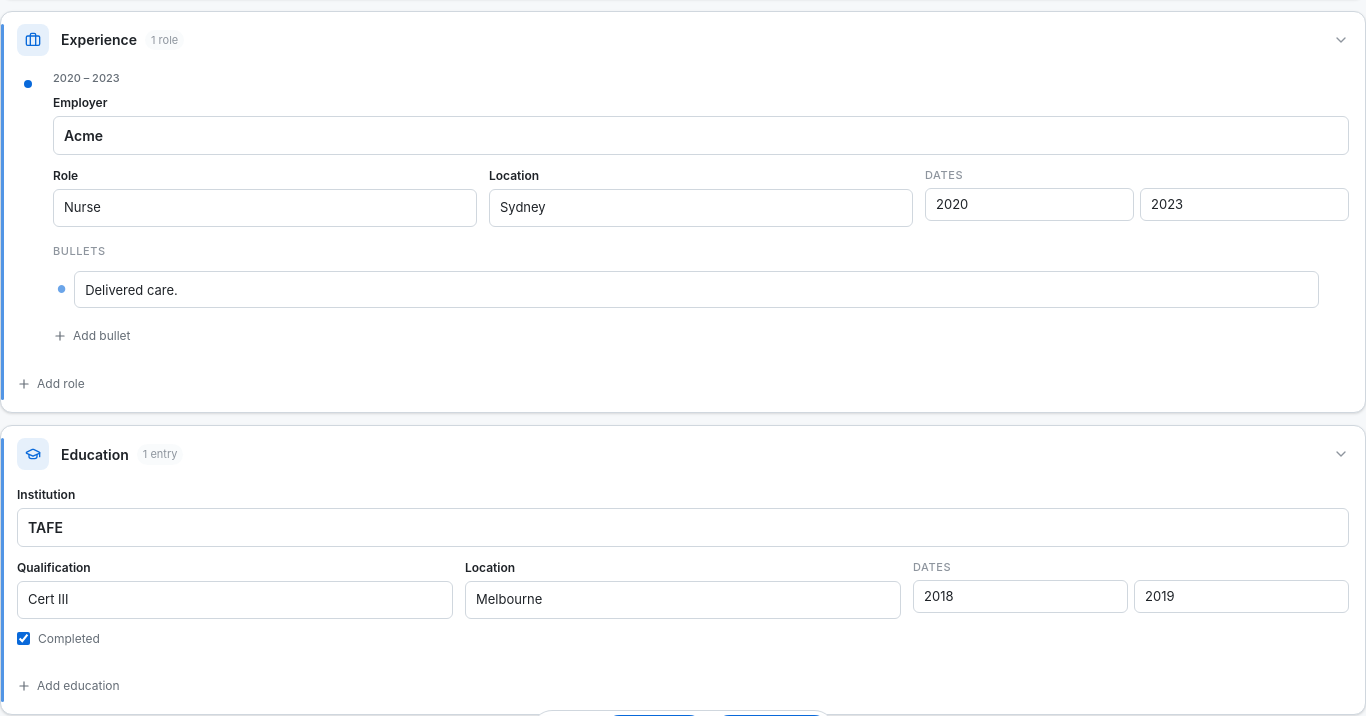
it: Experience section › removing a role reaches removeExperience
(page scrolled)
Click the button "Add role" at (51, 384), box [9,372,93,396]
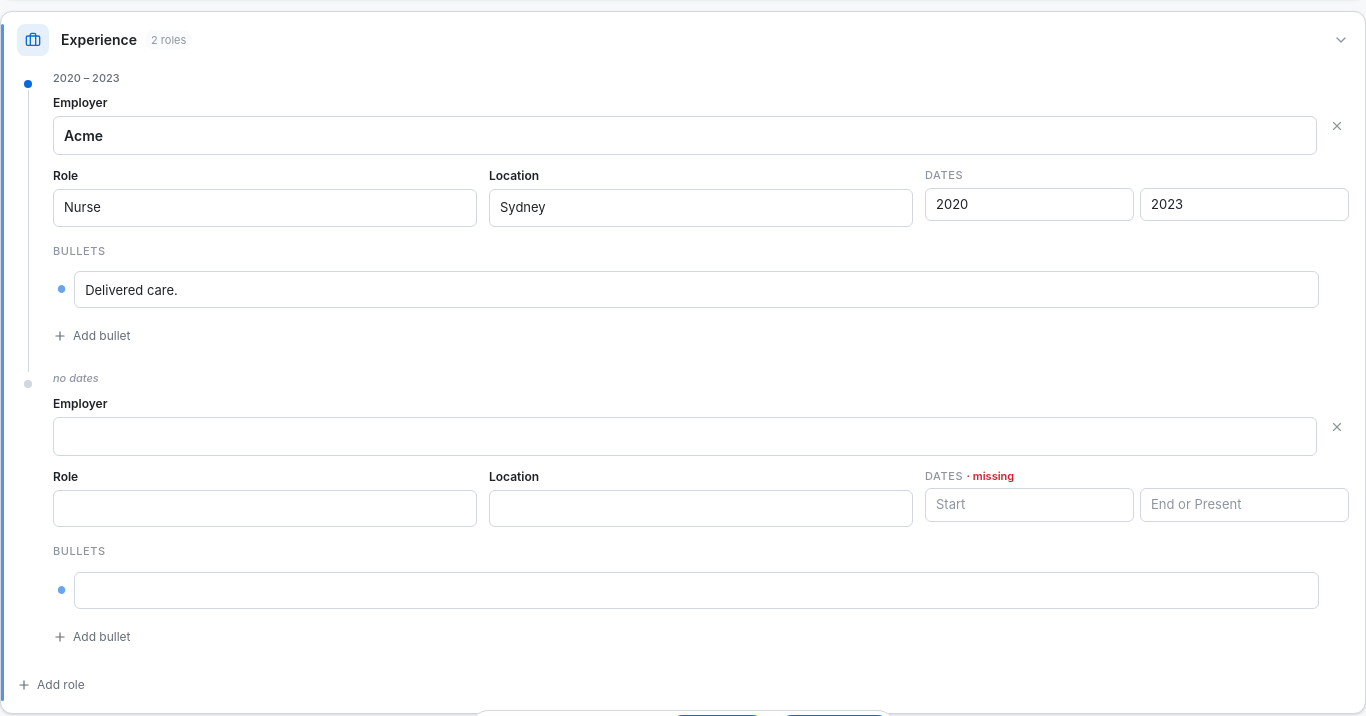
Type "Second Employer" into the field labelled "Employer" below "no dates" at (685, 436), box [53,417,1317,456]
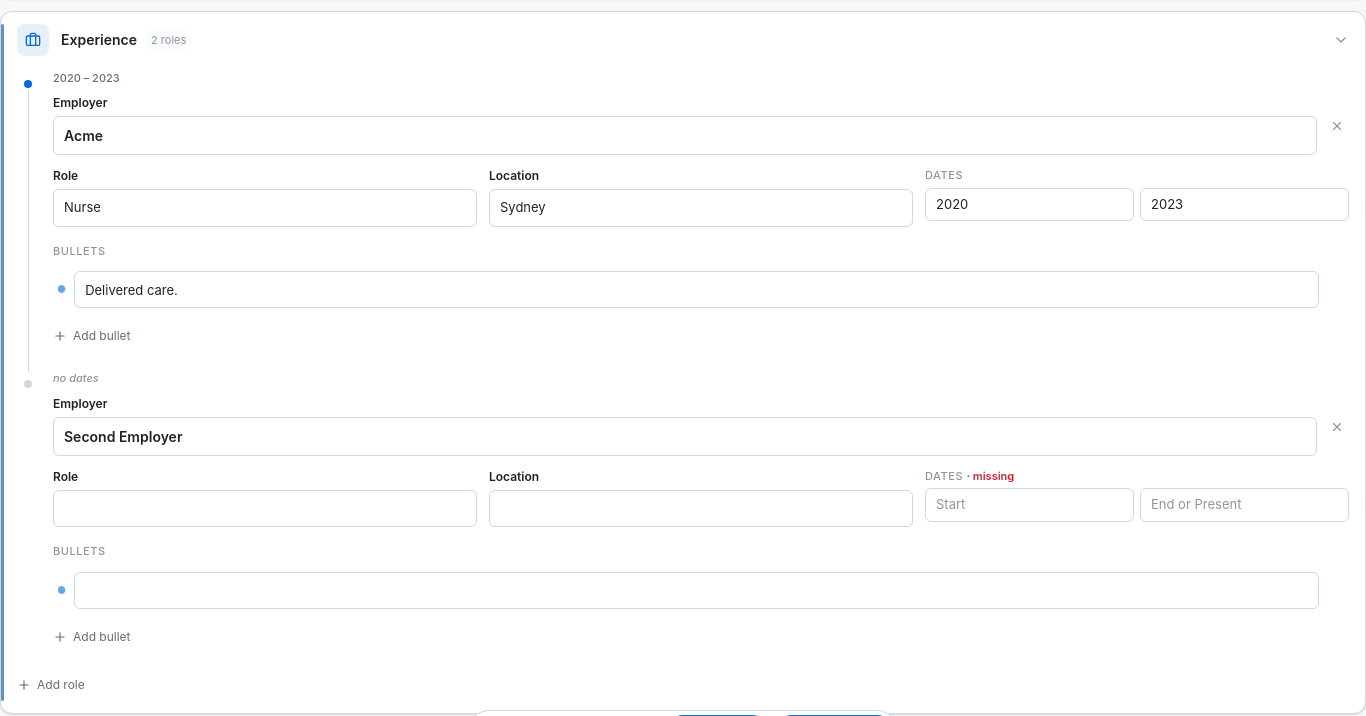
Click the 1st button named "Remove role" at (1337, 126), box [1325,114,1349,138]
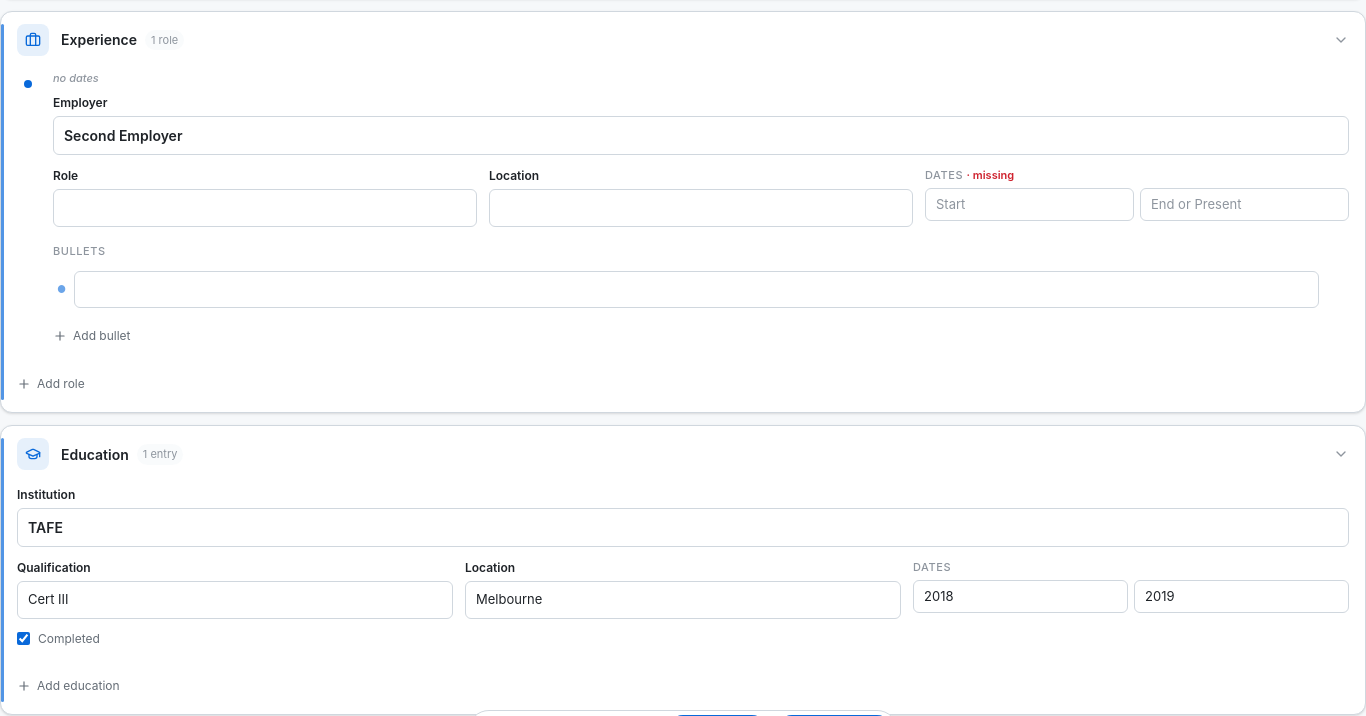
Check: the number of fields labelled "Employer" is 1, box [53,116,1349,155]
